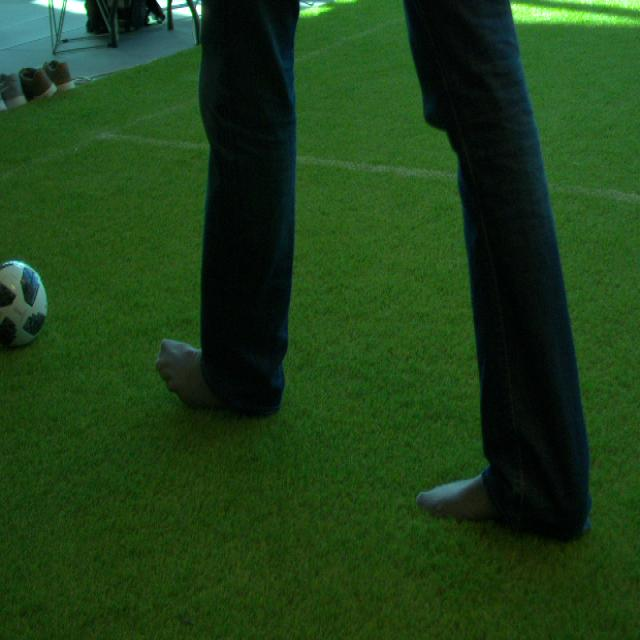ball: (0, 260, 52, 351)
